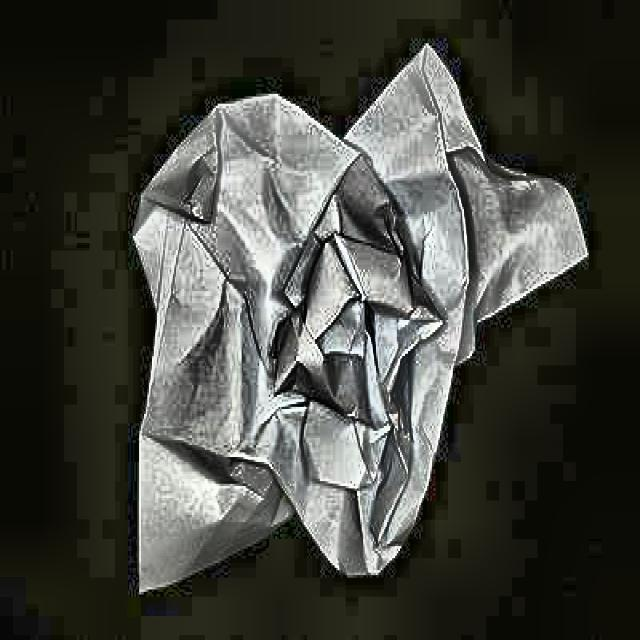Paper: (113, 31, 600, 614)
